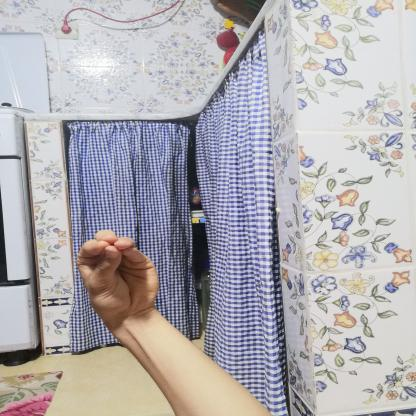HA: (64, 222, 170, 328)
